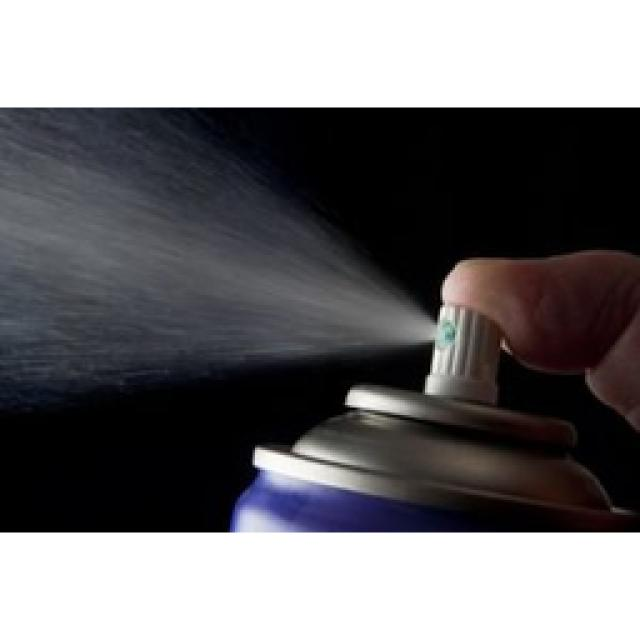alumunium: (235, 388, 635, 530)
